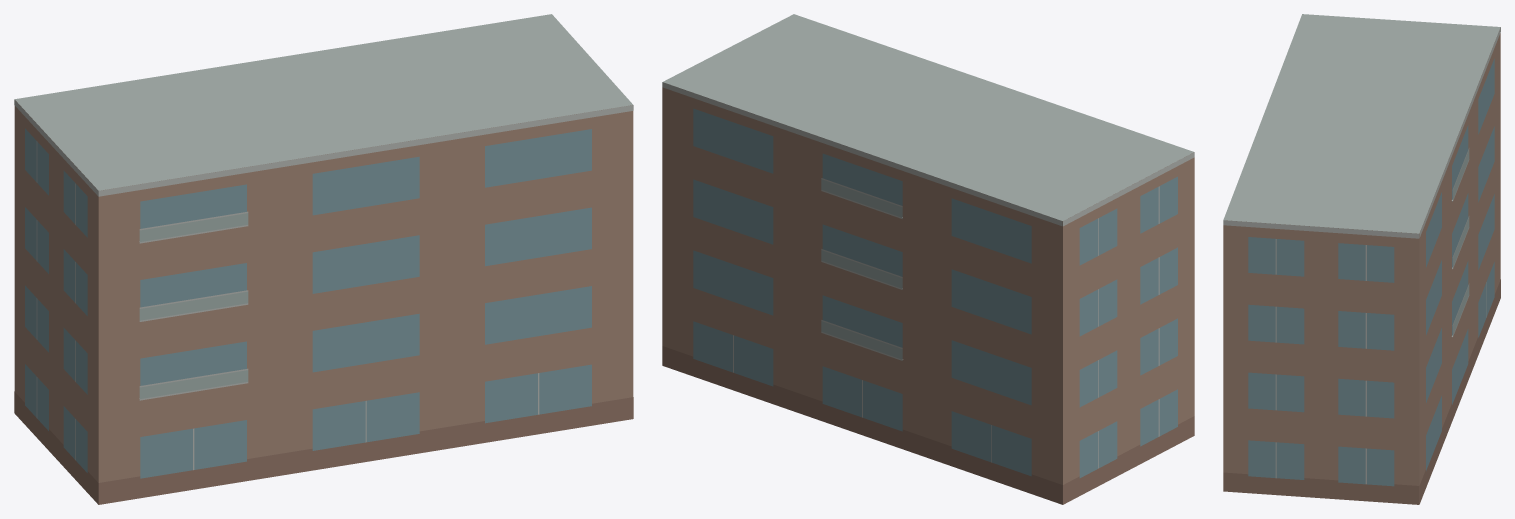
Rendered from survey-upis-32870684.glb.
3 views of the same model, side by side, from view 1: azimuth 30°, elevation 25°; view 2: azimuth 150°, elevation 25°; view 3: azimuth 270°, elevation 25° (orthographic). The views are drawn at different scales.
Visible parts, largest first — view 1: survey-upis-32870684.tmp; view 2: survey-upis-32870684.tmp; view 3: survey-upis-32870684.tmp.
Boxes of the visible parts, bbox=[...] form: survey-upis-32870684.tmp: bbox=[14, 14, 633, 504]; survey-upis-32870684.tmp: bbox=[662, 14, 1194, 504]; survey-upis-32870684.tmp: bbox=[1223, 14, 1500, 504].
Size of the model in its own units: 22.59 by 13 by 12.06.
